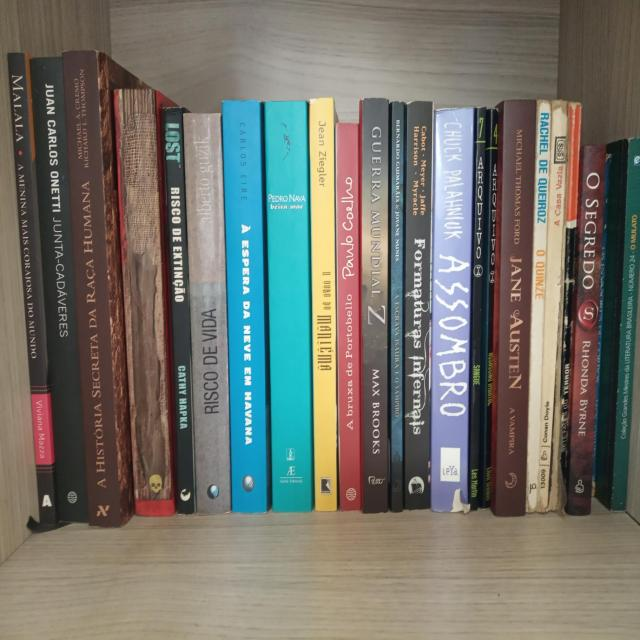book: (274, 106, 304, 509), (191, 108, 219, 506), (436, 109, 464, 506), (236, 108, 258, 508), (366, 99, 386, 505), (409, 107, 429, 506), (313, 100, 332, 512), (342, 126, 361, 507), (176, 116, 185, 506), (393, 112, 402, 500)
